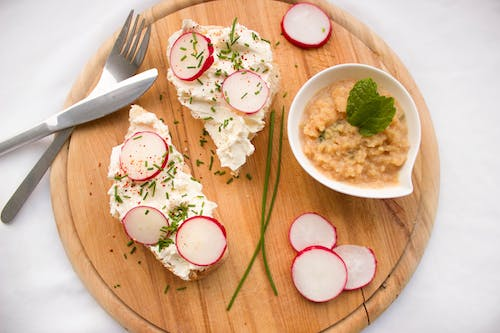knife: (0, 67, 159, 158)
